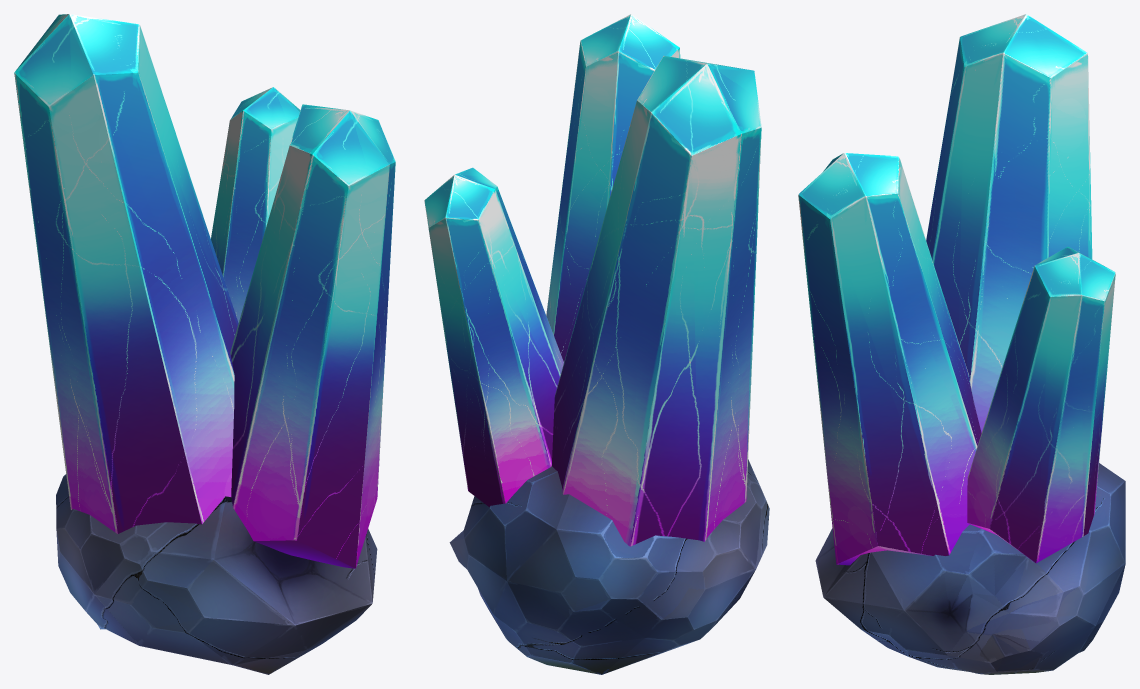
File: iron_chunk.fbx
3 views of the same model, side by side, from view 1: azimuth 30°, elevation 25°; view 2: azimuth 150°, elevation 25°; view 3: azimuth 270°, elevation 25° (orthographic). The views are drawn at different scales.
Parts seen in each view (by area): view 1: Icosphere; view 2: Icosphere; view 3: Icosphere.
Boxes of the visible parts, x1=… form: Icosphere: x1=14, y1=14, x2=395, y2=674; Icosphere: x1=424, y1=14, x2=769, y2=674; Icosphere: x1=798, y1=14, x2=1125, y2=674.
Bounding box in the file's own units: 49.42 × 101 × 50.48.
